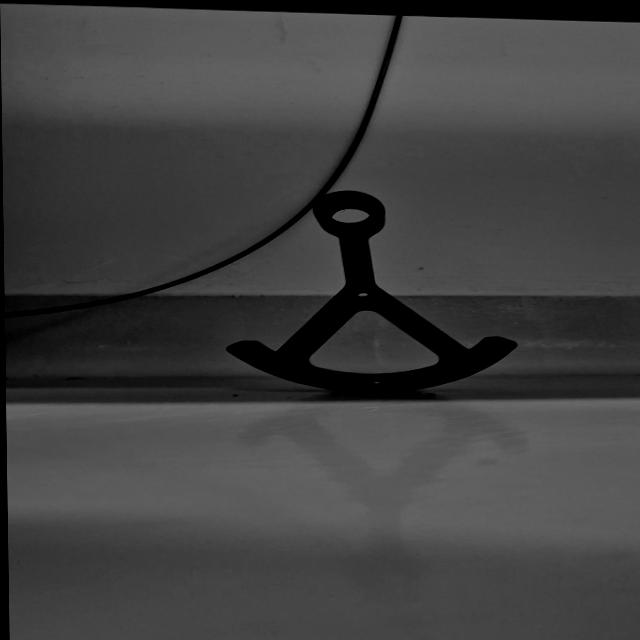haptic: (223, 187, 520, 397)
